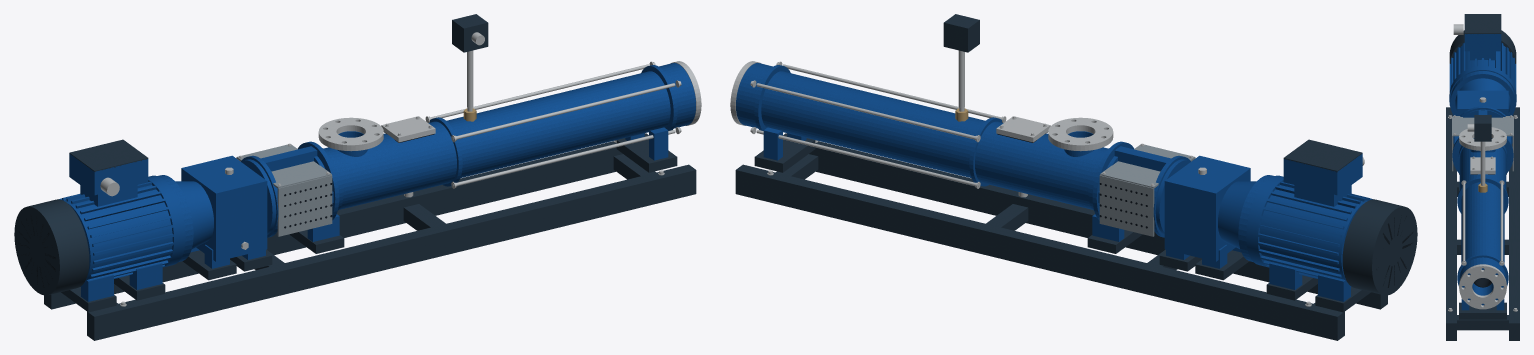
File: ams-pcp-21031004.glb
The picture shows the model from 3 angles, left to right: view 1: azimuth 30°, elevation 25°; view 2: azimuth 150°, elevation 25°; view 3: azimuth 270°, elevation 25°; orthographic projection. The views are drawn at different scales.
Parts seen in each view (by area): view 1: pcp_frame_navy_base_steel, pcp_stator_kst_blue_cast_metal, pcp_motor_kst_blue_cast_metal, pcp_gearbox_kst_blue_cast_metal, pcp_motor_navy_base_steel, pcp_pump_casing_kst_blue_cast_metal, pcp_guard_perforated_guard_steel, pcp_stud_machined_steel, pcp_adapter_kst_blue_cast_metal, pcp_discharge_flange_kst_blue_cast_metal, dn100_product_inlet_flange, dts_terminal_head (+2 smaller); view 2: pcp_frame_navy_base_steel, pcp_stator_kst_blue_cast_metal, pcp_motor_kst_blue_cast_metal, pcp_gearbox_kst_blue_cast_metal, pcp_motor_navy_base_steel, pcp_pump_casing_kst_blue_cast_metal, pcp_guard_perforated_guard_steel, pcp_stud_machined_steel, pcp_adapter_kst_blue_cast_metal, pcp_discharge_flange_kst_blue_cast_metal, dn100_product_inlet_flange, dts_terminal_head (+1 smaller); view 3: pcp_frame_navy_base_steel, pcp_stator_kst_blue_cast_metal, pcp_motor_kst_blue_cast_metal, pcp_gearbox_kst_blue_cast_metal, dn100_discharge_flange, pcp_motor_navy_base_steel, pcp_pump_casing_kst_blue_cast_metal, pcp_guard_perforated_guard_steel, pcp_discharge_flange_kst_blue_cast_metal, pcp_stud_machined_steel, pcp_adapter_kst_blue_cast_metal, dn100_product_inlet_flange (+7 smaller).
Boxes of the visible parts, <box> form: pcp_frame_navy_base_steel: <box>44,133,696,340</box>; pcp_stator_kst_blue_cast_metal: <box>430,65,677,186</box>; pcp_motor_kst_blue_cast_metal: <box>59,153,190,301</box>; pcp_gearbox_kst_blue_cast_metal: <box>157,155,276,268</box>; pcp_motor_navy_base_steel: <box>14,139,148,295</box>; pcp_pump_casing_kst_blue_cast_metal: <box>324,121,456,209</box>; pcp_guard_perforated_guard_steel: <box>236,144,332,236</box>; pcp_stud_machined_steel: <box>425,61,681,188</box>; pcp_adapter_kst_blue_cast_metal: <box>241,141,339,241</box>; pcp_discharge_flange_kst_blue_cast_metal: <box>625,63,695,160</box>; dn100_product_inlet_flange: <box>318,117,383,151</box>; dts_terminal_head: <box>452,14,488,52</box>; pcp_frame_navy_base_steel: <box>735,133,1387,340</box>; pcp_stator_kst_blue_cast_metal: <box>754,65,1001,186</box>; pcp_motor_kst_blue_cast_metal: <box>1241,153,1372,301</box>; pcp_gearbox_kst_blue_cast_metal: <box>1155,155,1274,268</box>; pcp_motor_navy_base_steel: <box>1283,139,1417,295</box>; pcp_pump_casing_kst_blue_cast_metal: <box>975,121,1107,209</box>; pcp_guard_perforated_guard_steel: <box>1099,144,1195,236</box>; pcp_stud_machined_steel: <box>750,61,1006,188</box>; pcp_adapter_kst_blue_cast_metal: <box>1092,141,1190,241</box>; pcp_discharge_flange_kst_blue_cast_metal: <box>736,63,806,160</box>; dn100_product_inlet_flange: <box>1048,117,1113,151</box>; dts_terminal_head: <box>943,14,979,52</box>; pcp_frame_navy_base_steel: <box>1446,107,1519,340</box>; pcp_stator_kst_blue_cast_metal: <box>1457,177,1508,288</box>; pcp_motor_kst_blue_cast_metal: <box>1449,34,1516,108</box>; pcp_gearbox_kst_blue_cast_metal: <box>1450,72,1515,137</box>; dn100_discharge_flange: <box>1459,264,1506,309</box>; pcp_motor_navy_base_steel: <box>1449,14,1516,63</box>; pcp_pump_casing_kst_blue_cast_metal: <box>1459,138,1506,189</box>; pcp_guard_perforated_guard_steel: <box>1452,116,1513,171</box>; pcp_discharge_flange_kst_blue_cast_metal: <box>1459,257,1506,310</box>; pcp_stud_machined_steel: <box>1461,180,1504,299</box>; pcp_adapter_kst_blue_cast_metal: <box>1452,106,1513,173</box>; dn100_product_inlet_flange: <box>1459,127,1506,150</box>.
Size of the model in its own units: 2.53 by 0.759 by 0.34.
6 materials, 4 textured.
